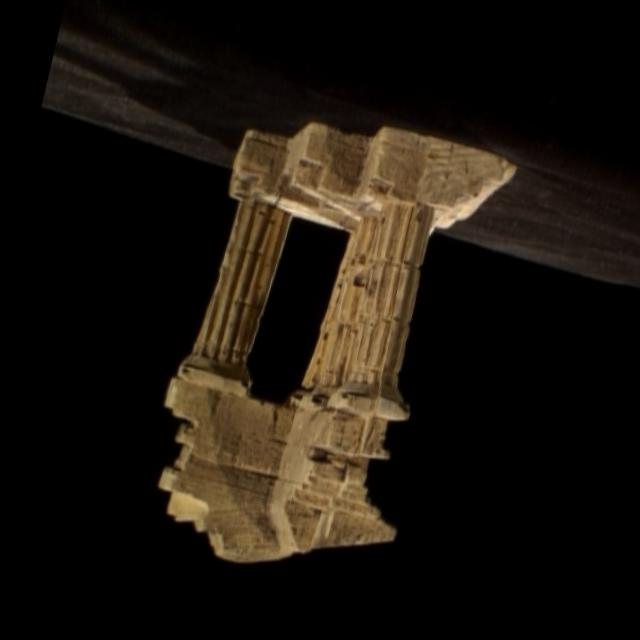Instance-Segmentation: (159, 121, 514, 560)
